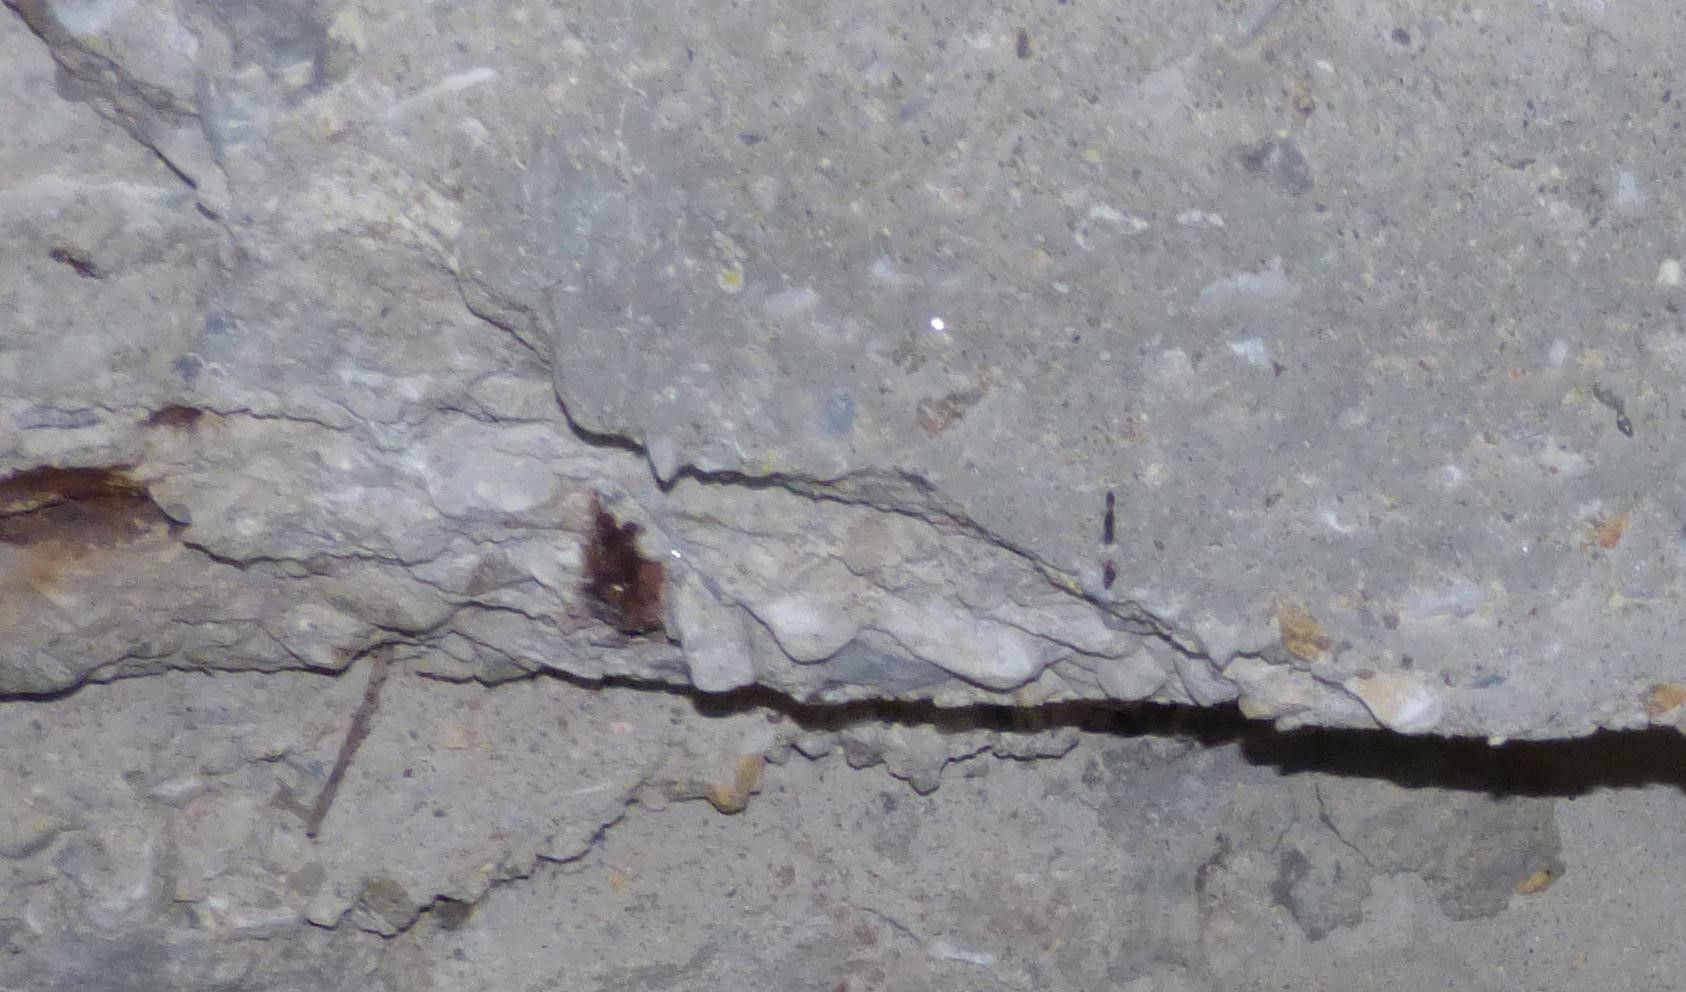Corrosion: (1, 461, 181, 563), (579, 488, 664, 633), (140, 402, 203, 429)
Spalling: (1, 1, 1391, 992)
